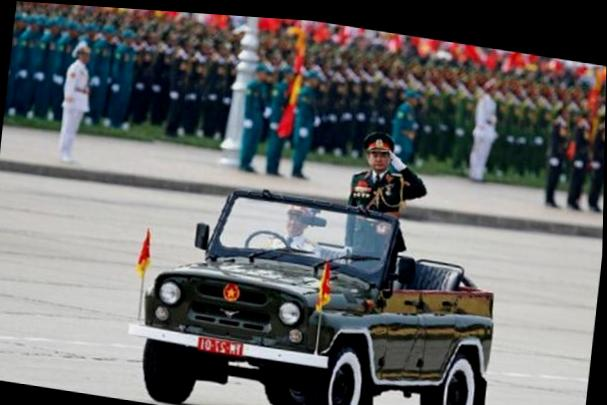License_Plate: (196, 332, 243, 361)
